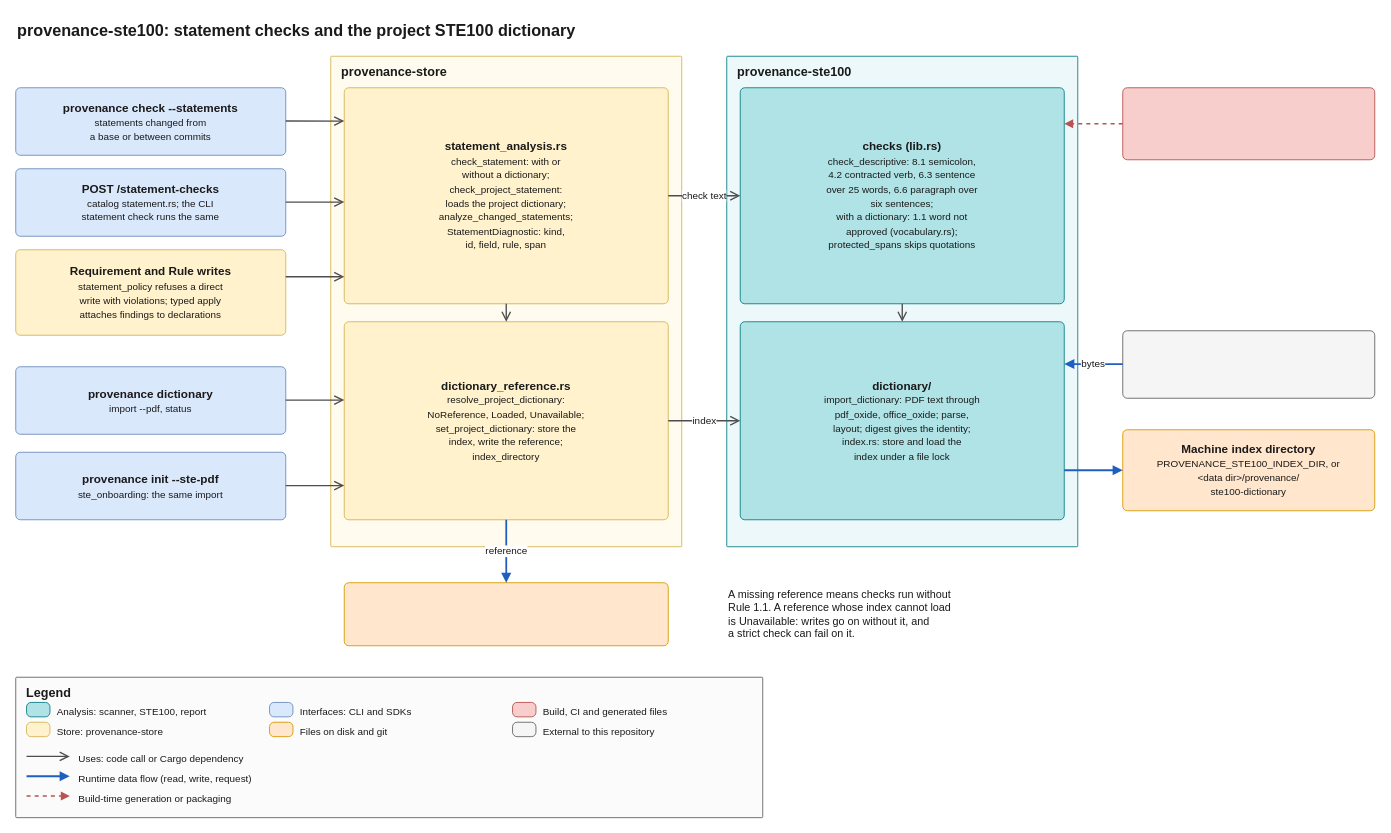
This 1391x833 diagram has some shape labels left out. Each missing label, with the centre of its shape:
.provenance/state/dictionary.json tracked: the dictionary identity only: (x=505, y=614)
ASD-STE100 Issue 9 PDF supplied by the user; from the ASD request page: (x=1248, y=364)
provenance-codegen schema feature: JSON Schema of Report (ReportOutput): (x=1248, y=123)
